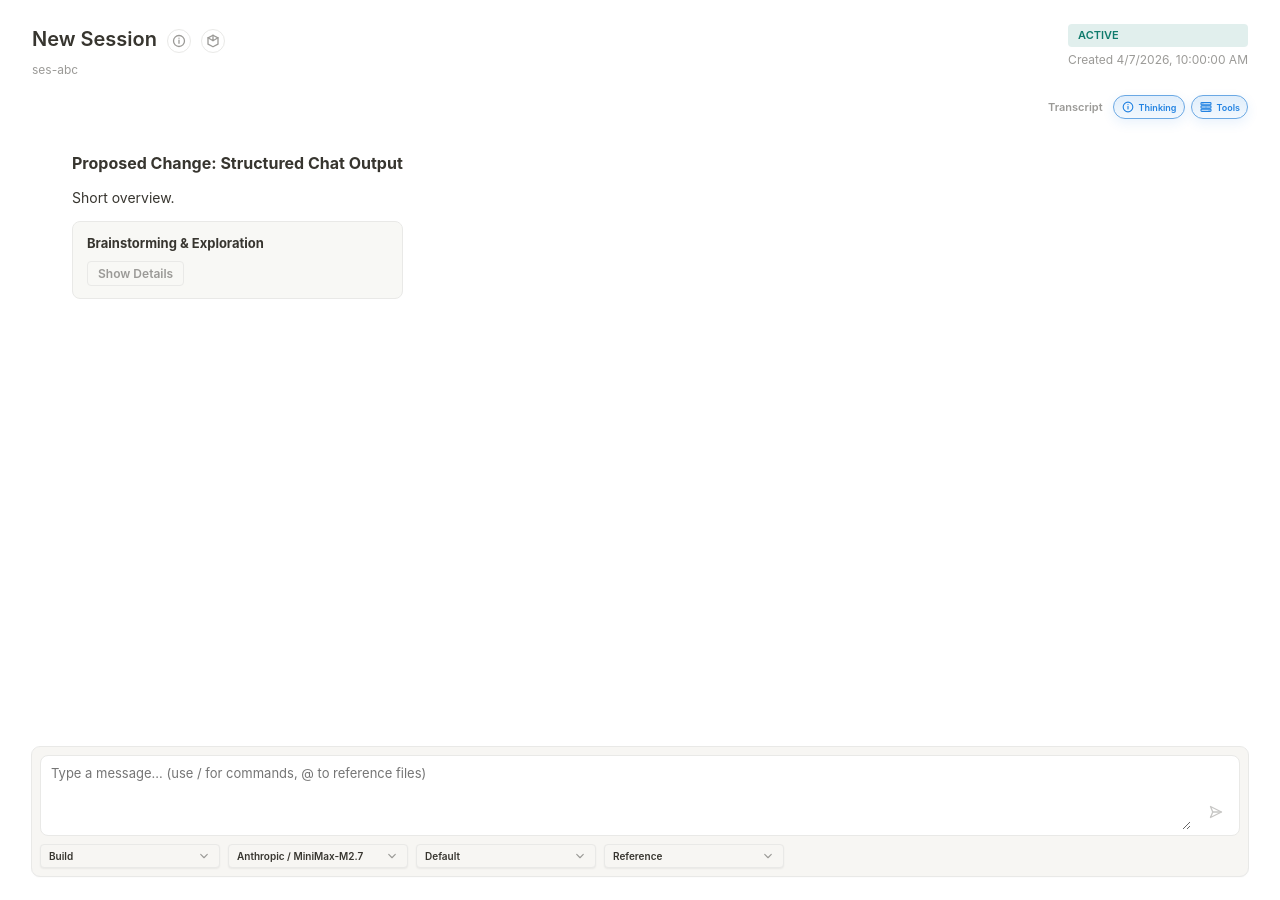
Scenario: ChatPage › expands brainstorming details for structured assistant messages
This screenshot has width=1280, height=900.
Click the button with test id "brainstorming-toggle" at (136, 273), box [87,261,184,286]
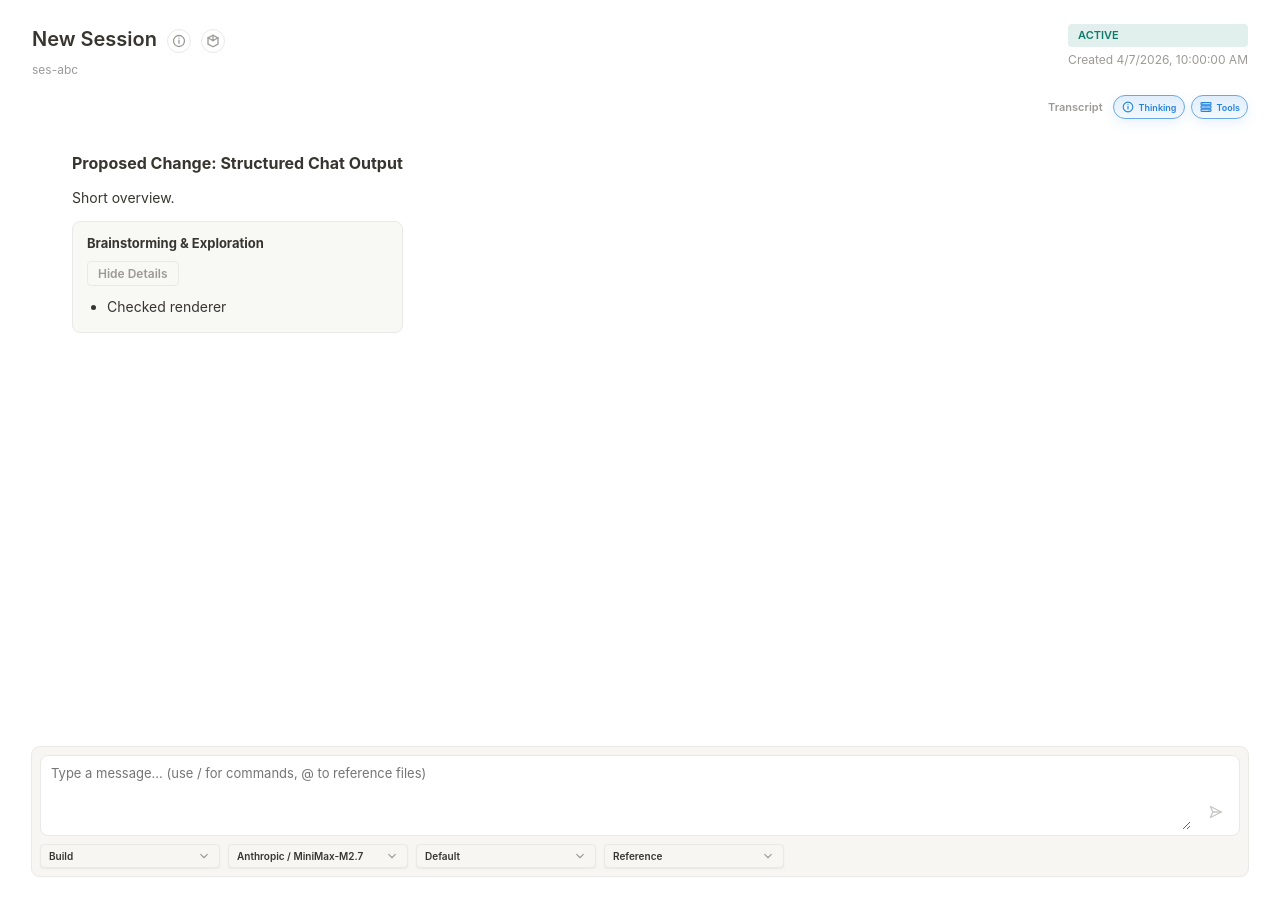
Now the list item "Checked renderer" is shown, box [107,298,226,315]
